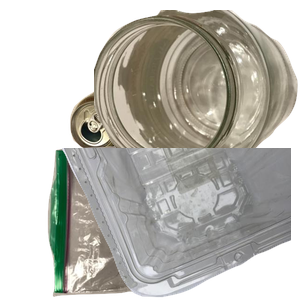glass: (94, 10, 300, 184)
metal: (67, 87, 206, 234)
plastic: (60, 148, 300, 300)
trash: (45, 144, 235, 300)
